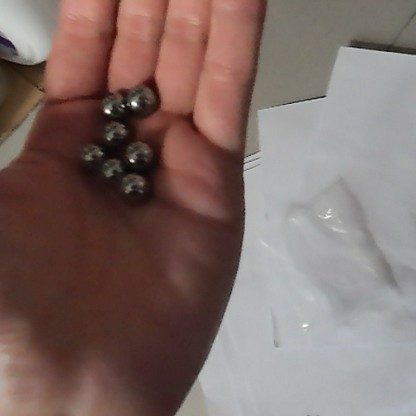ironball: (74, 137, 108, 170), (119, 173, 152, 205), (95, 155, 128, 186), (125, 83, 157, 114), (123, 135, 154, 166), (101, 118, 129, 147), (101, 91, 128, 119)
